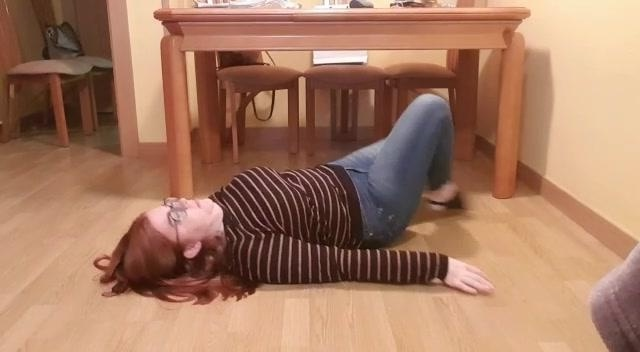fall: (88, 85, 495, 339)
